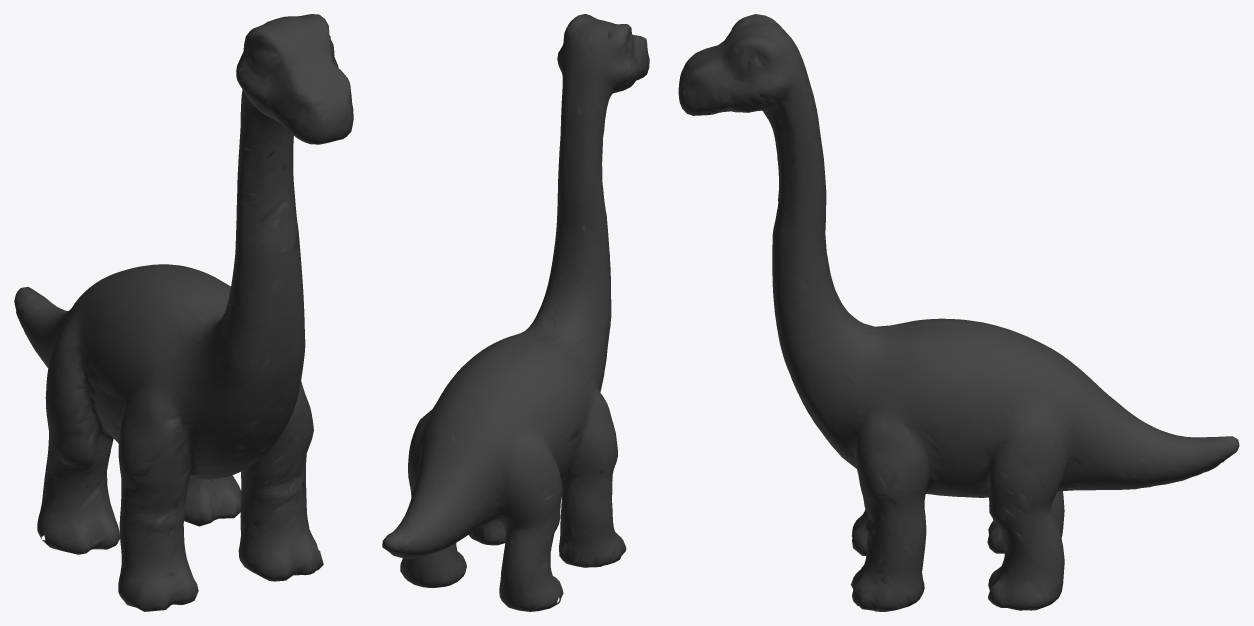
File: brachiosaurus.glb
3 views of the same model, side by side, from view 1: azimuth 30°, elevation 25°; view 2: azimuth 150°, elevation 25°; view 3: azimuth 270°, elevation 25° (orthographic). The views are drawn at different scales.
Visible parts, largest first — view 1: geometry_0; view 2: geometry_0; view 3: geometry_0.
Part boxes in pixels (x1,y1,x2,y2): geometry_0: (14, 14, 353, 611); geometry_0: (382, 14, 649, 611); geometry_0: (678, 14, 1239, 611).
Size of the model in its own units: 0.3594 by 1.07 by 1.
Materials: 1 (1 with a texture image).
